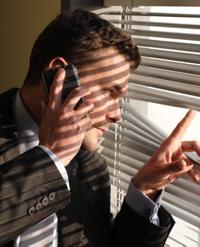person: (3, 12, 198, 245)
